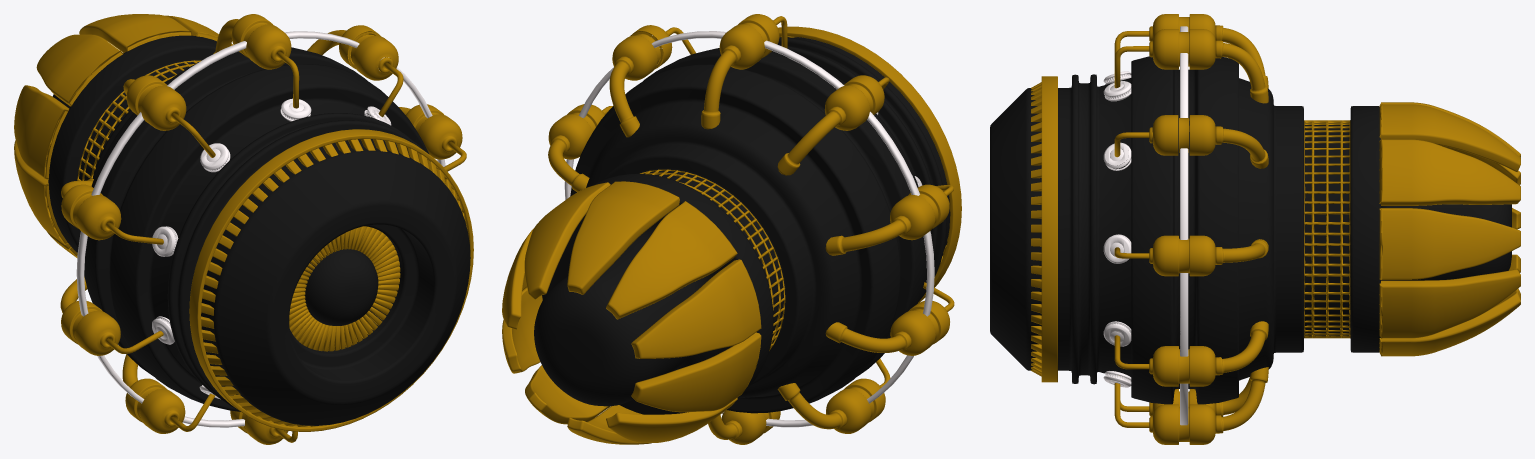
File: model-jet-draco.gltf
3 views of the same model, side by side, from view 1: azimuth 30°, elevation 25°; view 2: azimuth 150°, elevation 25°; view 3: azimuth 270°, elevation 25° (orthographic). The views are drawn at different scales.
Parts seen in each view (by area): view 1: Cylinder_Cylinder.006, Cylinder.002_Cylinder.004, backspin_Cylinder.007_Cylinder.010, midspin_Cylinder.001_Cylinder.003, frontspin_Cylinder.005_Cylinder.008, Cylinder.003_Cylinder.005, Cylinder.004_Cylinder.007, Cylinder.006_Cylinder.009; view 2: Cylinder_Cylinder.006, backspin_Cylinder.007_Cylinder.010, Cylinder.002_Cylinder.004, midspin_Cylinder.001_Cylinder.003, Cylinder.003_Cylinder.005, Cylinder.006_Cylinder.009; view 3: Cylinder_Cylinder.006, backspin_Cylinder.007_Cylinder.010, Cylinder.002_Cylinder.004, midspin_Cylinder.001_Cylinder.003, Cylinder.006_Cylinder.009, Cylinder.004_Cylinder.007, Cylinder.003_Cylinder.005.
Boxes of the visible parts, box(x1,y1,x2,y2) form: Cylinder_Cylinder.006: box(48, 35, 470, 425); Cylinder.002_Cylinder.004: box(60, 14, 466, 444); backspin_Cylinder.007_Cylinder.010: box(14, 14, 232, 257); midspin_Cylinder.001_Cylinder.003: box(189, 129, 473, 431); frontspin_Cylinder.005_Cylinder.008: box(289, 226, 400, 351); Cylinder.003_Cylinder.005: box(76, 31, 445, 427); Cylinder.004_Cylinder.007: box(152, 98, 391, 399); Cylinder.006_Cylinder.009: box(77, 60, 201, 180); Cylinder_Cylinder.006: box(534, 37, 950, 414); backspin_Cylinder.007_Cylinder.010: box(502, 181, 761, 444); Cylinder.002_Cylinder.004: box(548, 14, 954, 444); midspin_Cylinder.001_Cylinder.003: box(778, 26, 961, 303); Cylinder.003_Cylinder.005: box(564, 31, 934, 427); Cylinder.006_Cylinder.009: box(640, 169, 785, 350); Cylinder_Cylinder.006: box(990, 56, 1511, 404); backspin_Cylinder.007_Cylinder.010: box(1379, 102, 1520, 356); Cylinder.002_Cylinder.004: box(1114, 14, 1268, 444); midspin_Cylinder.001_Cylinder.003: box(1031, 76, 1057, 382); Cylinder.006_Cylinder.009: box(1304, 120, 1350, 338); Cylinder.004_Cylinder.007: box(1103, 71, 1131, 387); Cylinder.003_Cylinder.005: box(1180, 26, 1188, 425).
Size of the model in its own units: 0.3393 by 0.3541 by 0.4293.
